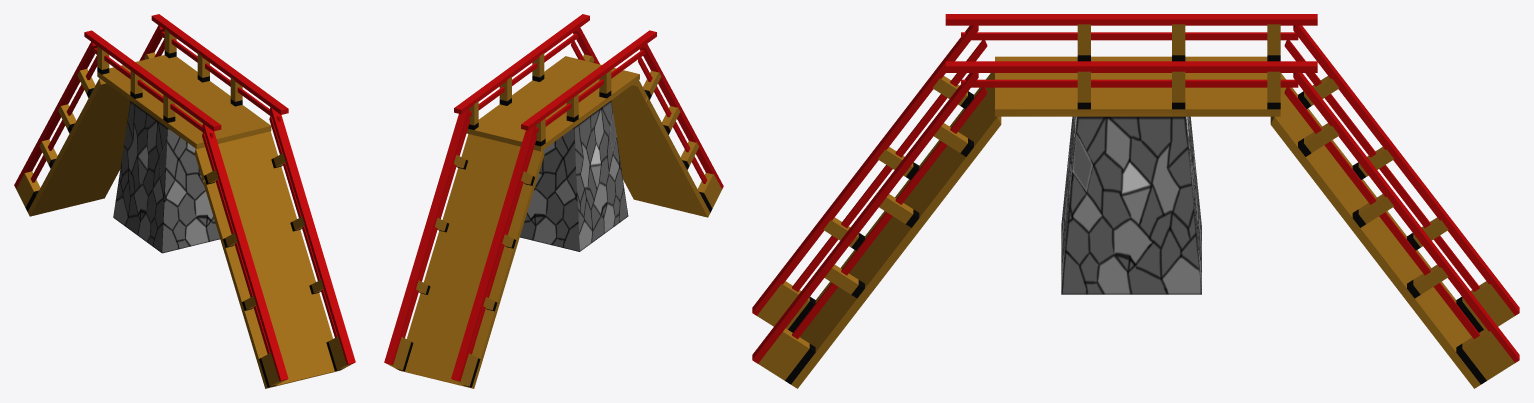
Rendered from broken_bridge.fbx.
The picture shows the model from 3 angles, left to right: view 1: azimuth 30°, elevation 25°; view 2: azimuth 150°, elevation 25°; view 3: azimuth 270°, elevation 25°; orthographic projection. The views are drawn at different scales.
Parts seen in each view (by area): view 1: pasted__pCube3; view 2: pasted__pCube3; view 3: pasted__pCube3.
Boxes of the visible parts, <box> form: pasted__pCube3: <box>14,14,355,388</box>; pasted__pCube3: <box>384,14,723,388</box>; pasted__pCube3: <box>752,14,1519,388</box>.
Size of the model in its own units: 68.15 by 149 by 322.
